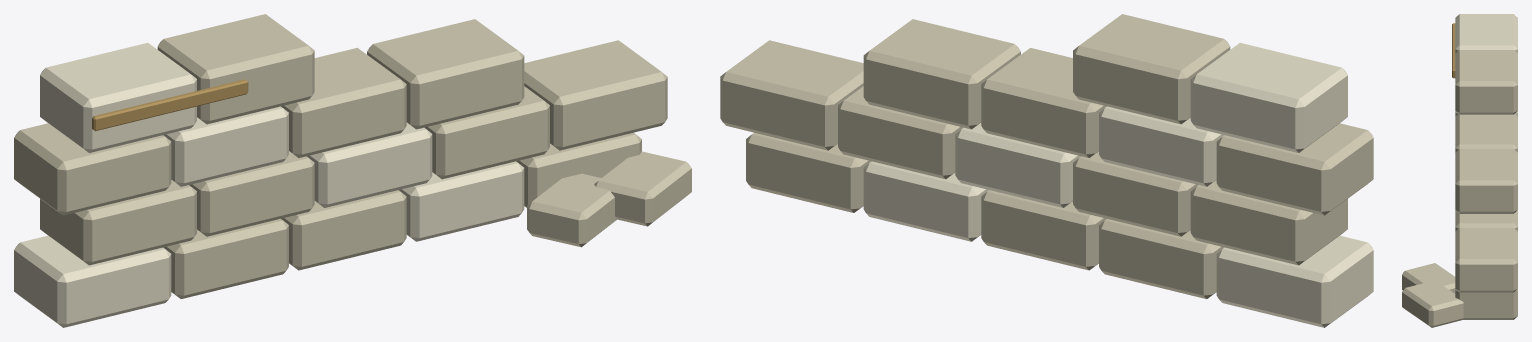
The model's file is ruin_wall.glb.
3 views of the same model, side by side, from view 1: azimuth 30°, elevation 25°; view 2: azimuth 150°, elevation 25°; view 3: azimuth 270°, elevation 25° (orthographic). The views are drawn at different scales.
Parts seen in each view (by area): view 1: ruin_wall / mesh; view 2: ruin_wall / mesh; view 3: ruin_wall / mesh.
Part boxes in pixels (left/top/right/bottom): ruin_wall / mesh: left=14, top=14, right=691, bottom=327; ruin_wall / mesh: left=720, top=14, right=1373, bottom=327; ruin_wall / mesh: left=1402, top=14, right=1517, bottom=327.
Size of the model in its own units: 8.32 by 2.93 by 2.18.
